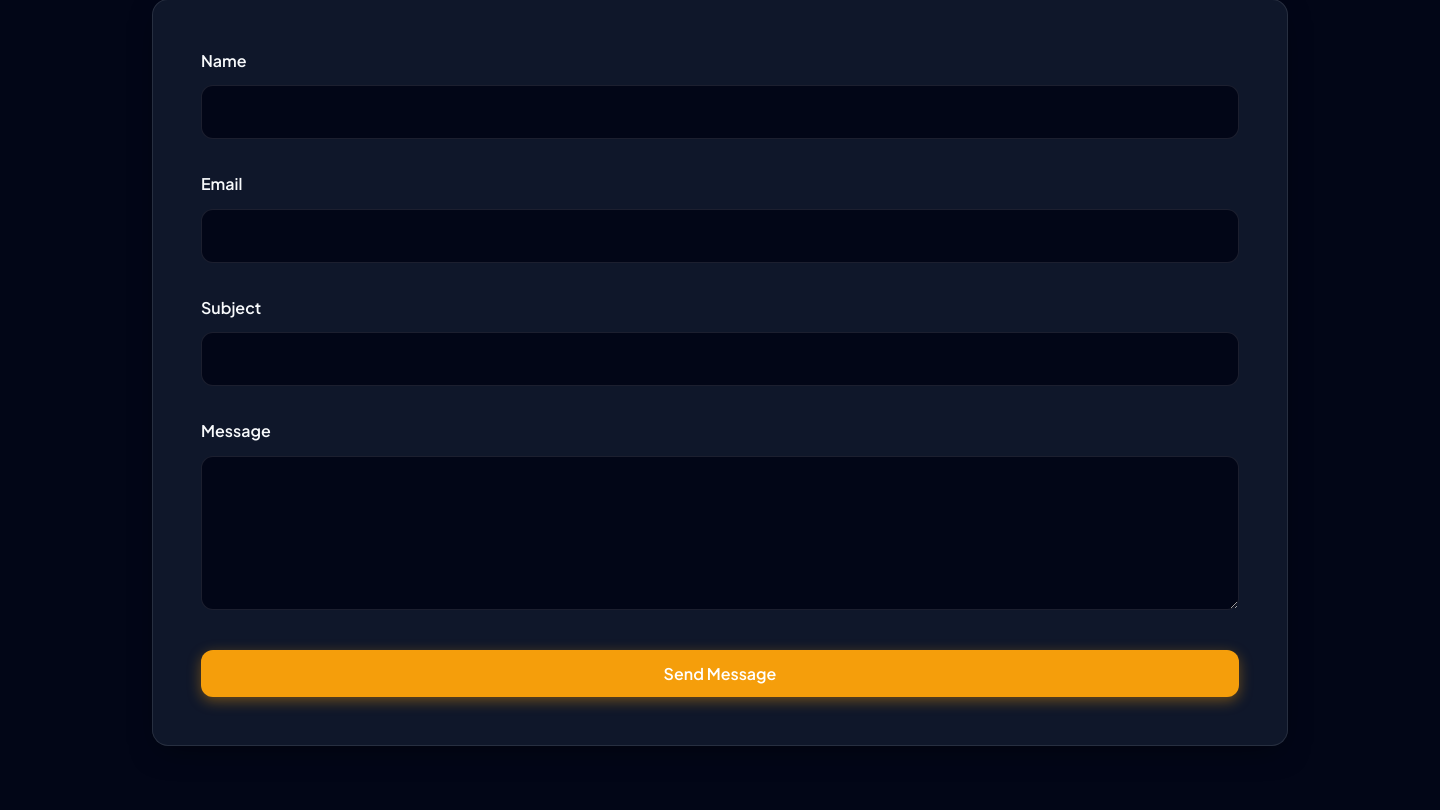
Test: Contact Form › renders validation errors when fields are empty
(page scrolled)
Step 1. Click the button "Send Message" → (720, 673), box [201,650,1239,697]
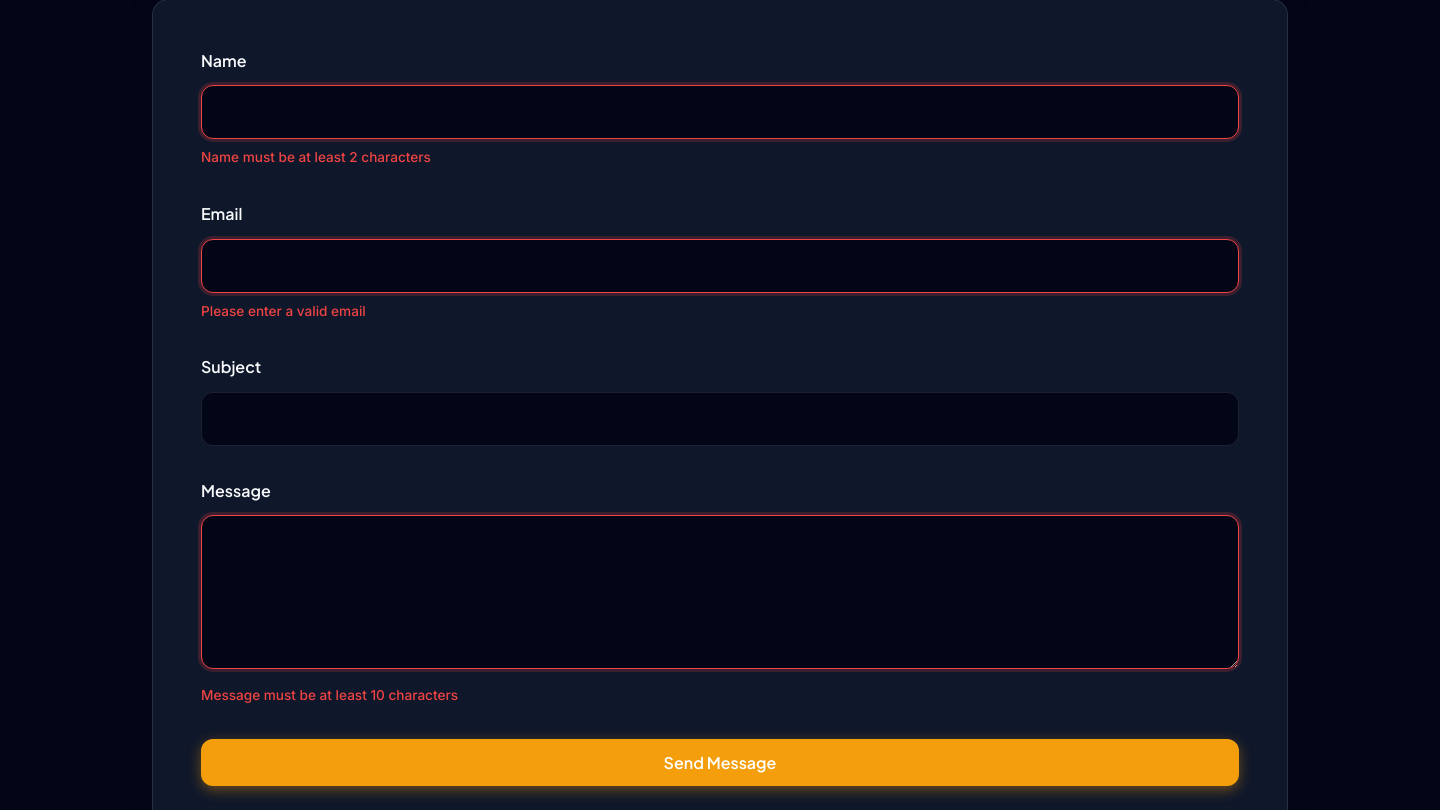
Now the text "Name must be at least 2 characters" is shown, box [201,149,431,165]
Now the text "Please enter a valid email" is shown, box [201,302,366,318]
Now the text "Message must be at least 10 characters" is shown, box [201,687,458,703]
